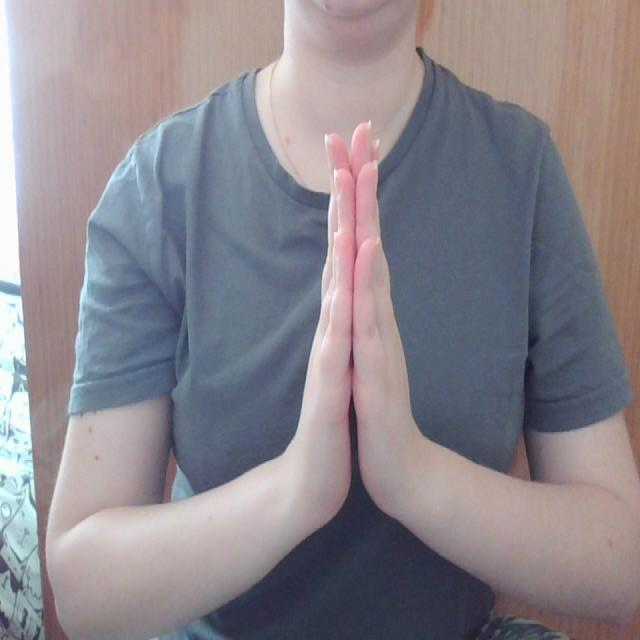Ozur-Dilemek: (282, 115, 432, 544)
